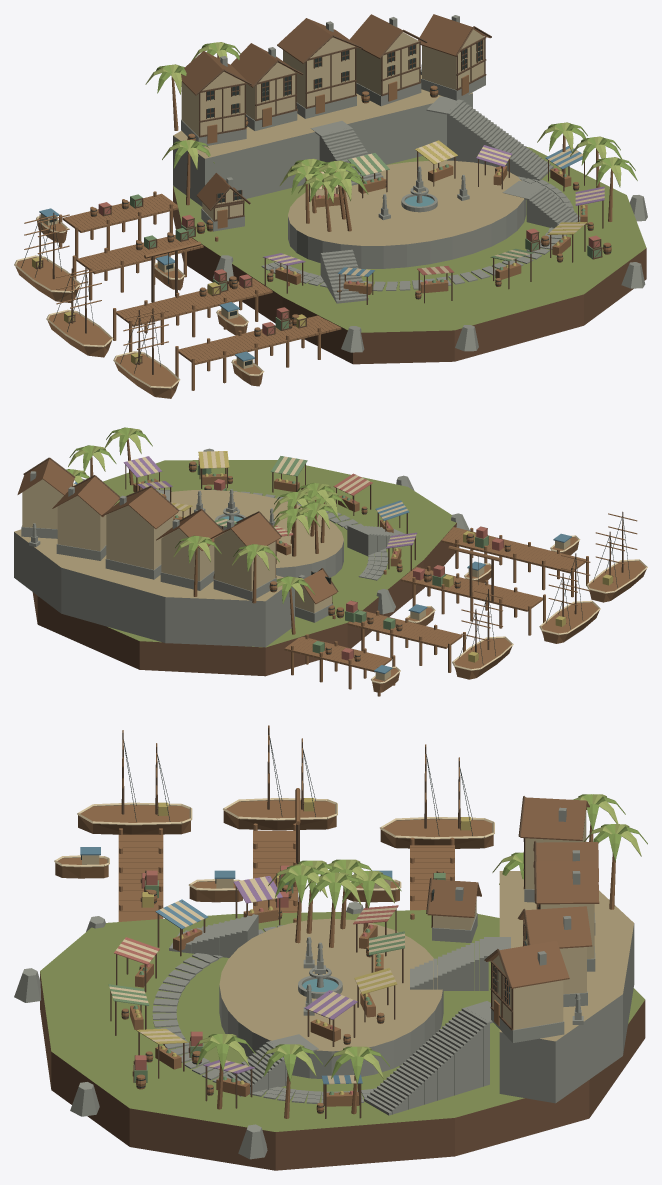
Rendered from MarketHarbor.fbx.
The picture shows the model from 3 angles, top to bottom: view 1: azimuth 30°, elevation 25°; view 2: azimuth 150°, elevation 25°; view 3: azimuth 270°, elevation 25°; orthographic projection. The views are drawn at different scales.
Parts seen in each view (by area): view 1: Terrain, Terraces, Buildings, Docks, Stairs, Ships, Roofs, Palms, Props, Awnings, Market, Timber (+6 smaller); view 2: Terrain, Terraces, Buildings, Docks, Ships, Roofs, Palms, Props, Awnings, Rigging, Market, Stairs (+5 smaller); view 3: Terrain, Terraces, Stairs, Ships, Roofs, Palms, Docks, Buildings, Awnings, Market, Paving, Props (+6 smaller).
Boxes of the visible parts, <box> form: Terrain: <box>173,147,646,364</box>; Terraces: <box>173,75,526,268</box>; Buildings: <box>181,29,485,231</box>; Docks: <box>59,191,341,390</box>; Stairs: <box>311,96,580,303</box>; Ships: <box>14,208,264,398</box>; Roofs: <box>181,14,490,210</box>; Palms: <box>145,42,637,231</box>; Props: <box>32,85,611,364</box>; Awnings: <box>263,140,604,276</box>; Market: <box>264,149,603,304</box>; Timber: <box>195,26,491,221</box>; Terrain: <box>32,460,459,676</box>; Terraces: <box>14,490,343,647</box>; Buildings: <box>21,479,332,622</box>; Docks: <box>284,527,588,696</box>; Ships: <box>371,533,647,692</box>; Roofs: <box>17,459,337,604</box>; Palms: <box>66,427,348,634</box>; Props: <box>157,458,613,662</box>; Awnings: <box>73,451,416,548</box>; Rigging: <box>458,511,637,664</box>; Market: <box>125,452,415,570</box>; Stairs: <box>156,489,404,556</box>; Terrain: <box>40,910,645,1170</box>; Terraces: <box>219,871,634,1103</box>; Stairs: <box>169,914,510,1115</box>; Ships: <box>54,798,494,902</box>; Roofs: <box>427,797,599,988</box>; Palms: <box>190,794,647,1118</box>; Docks: <box>118,823,454,922</box>; Buildings: <box>432,810,595,1042</box>; Awnings: <box>108,876,404,1084</box>; Market: <box>110,877,403,1118</box>; Paving: <box>152,925,376,1103</box>; Props: <box>121,798,470,1113</box>.
Size of the model in its own units: 72.63 by 19.42 by 56.56.
